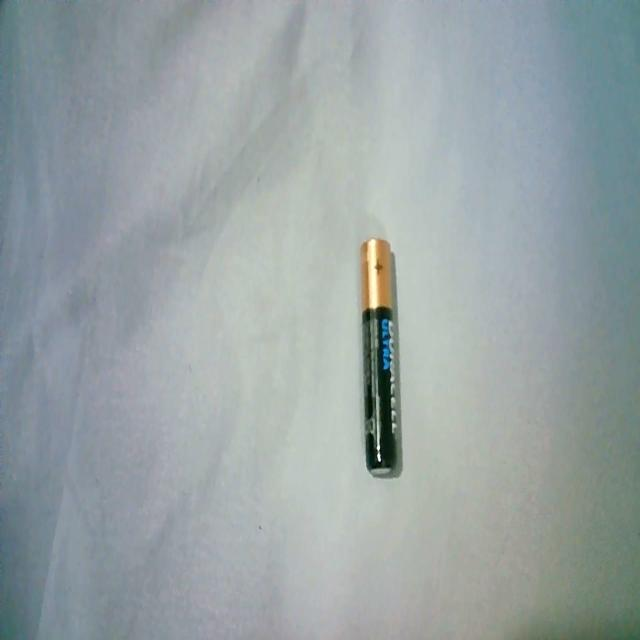AAA: (355, 230, 405, 491)
